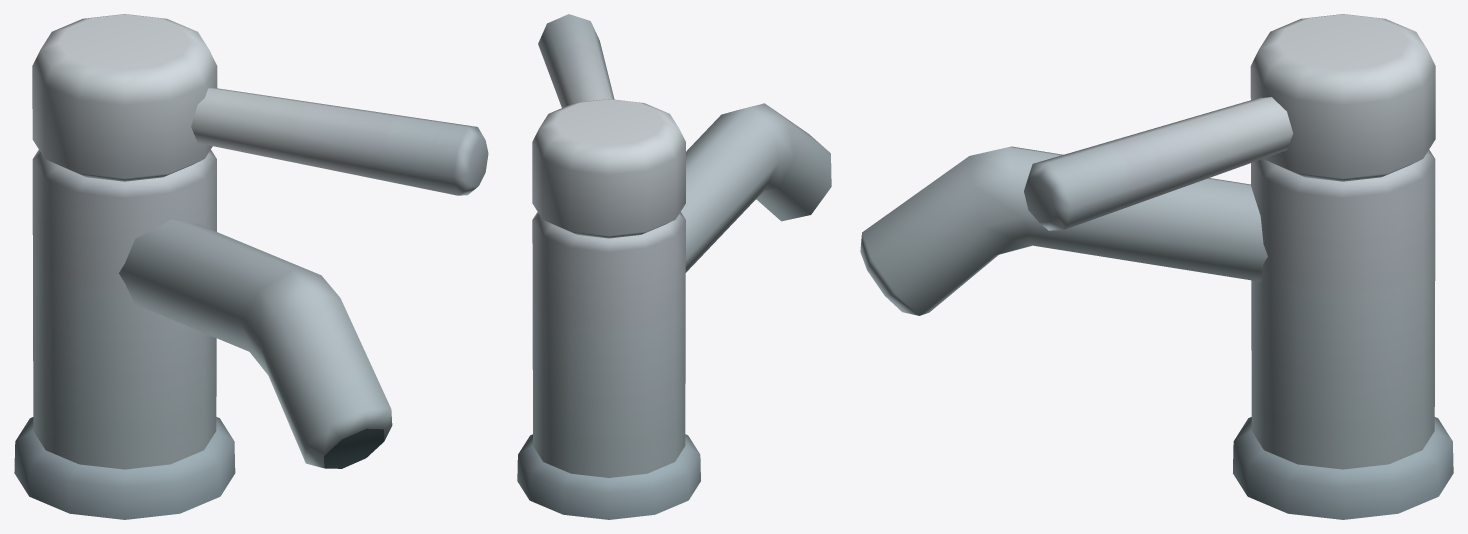
Rendered from Mixer_08.glb.
The picture shows the model from 3 angles, left to right: view 1: azimuth 30°, elevation 25°; view 2: azimuth 150°, elevation 25°; view 3: azimuth 270°, elevation 25°; orthographic projection. The views are drawn at different scales.
Visible parts, largest first — view 1: Mixer_08; view 2: Mixer_08; view 3: Mixer_08.
Boxes of the visible parts, <box> form: Mixer_08: <box>14,14,488,519</box>; Mixer_08: <box>517,14,831,519</box>; Mixer_08: <box>860,14,1453,519</box>.
Size of the model in its own units: 0.1643 by 0.2135 by 0.2663.
1 material, 1 textured.
